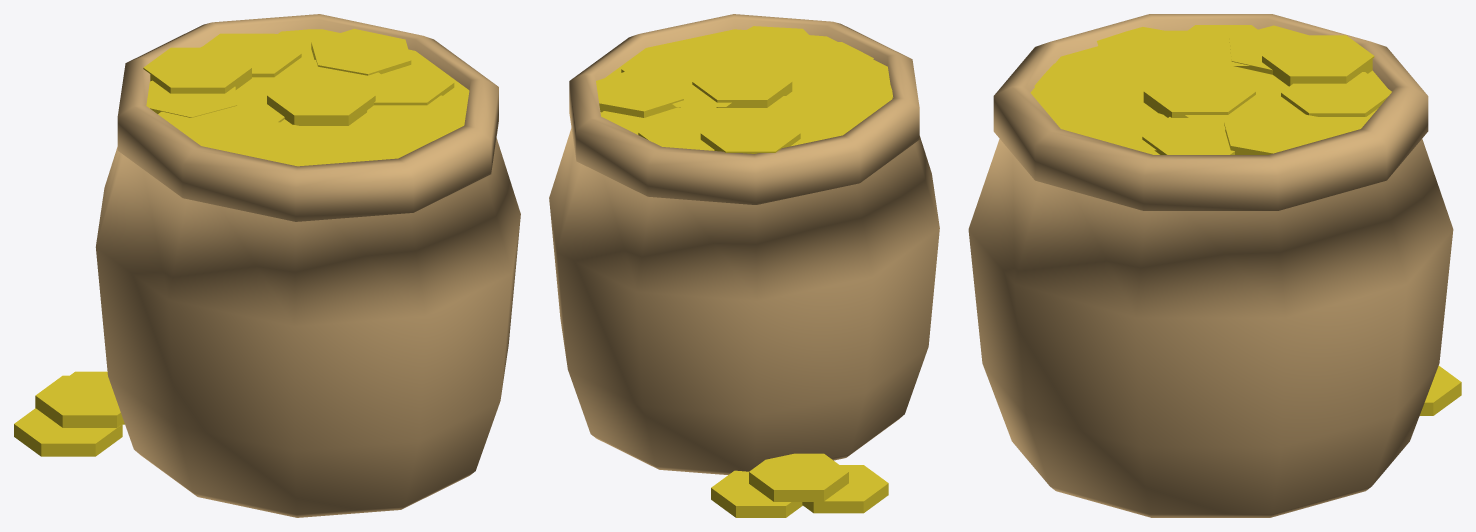
The model's file is GoldSack.fbx.
The picture shows the model from 3 angles, left to right: view 1: azimuth 30°, elevation 25°; view 2: azimuth 150°, elevation 25°; view 3: azimuth 270°, elevation 25°; orthographic projection. The views are drawn at different scales.
Visible parts, largest first — view 1: Cylinder; view 2: Cylinder; view 3: Cylinder.
Boxes of the visible parts, bbox=[...] form: Cylinder: bbox=[14, 14, 520, 517]; Cylinder: bbox=[549, 14, 939, 517]; Cylinder: bbox=[968, 14, 1461, 517].
Size of the model in its own units: 233 by 203 by 248.
